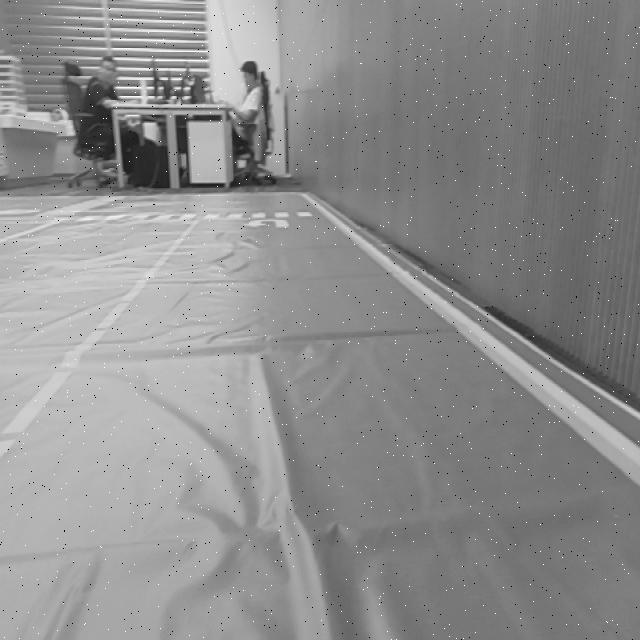left_lane: (2, 224, 197, 457)
right_lane: (301, 191, 640, 484)
